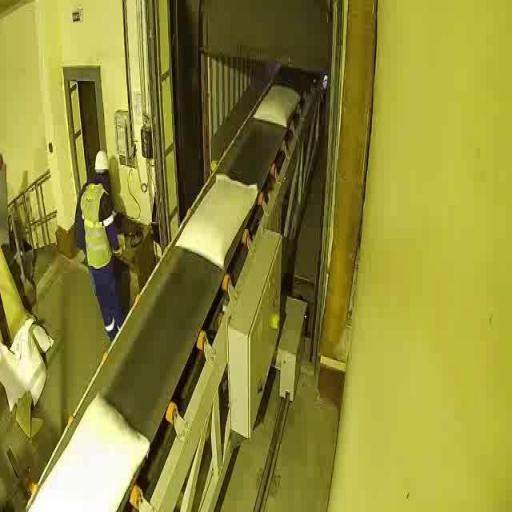c-belt-sack-count: (32, 395, 149, 511), (178, 175, 256, 269), (254, 85, 299, 128)
